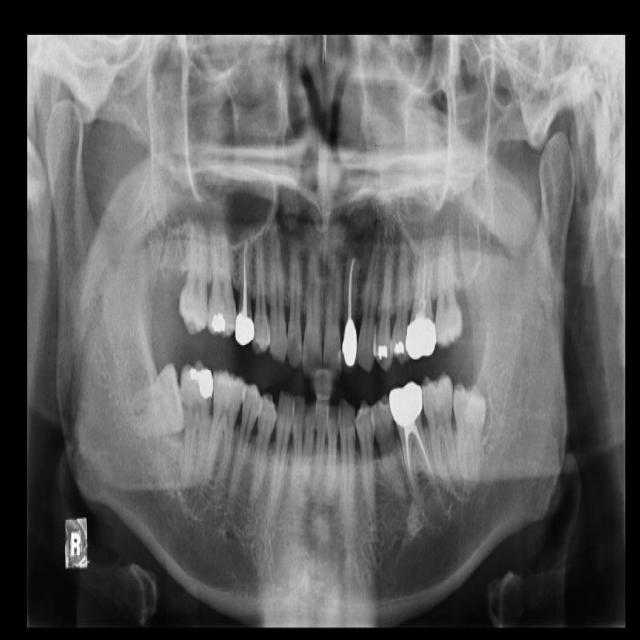52: (383, 379, 432, 427), (179, 358, 215, 409), (204, 291, 241, 339), (404, 321, 438, 361), (373, 323, 393, 373), (390, 323, 410, 365), (341, 330, 358, 375), (235, 312, 255, 346)
73: (395, 411, 437, 494), (409, 234, 443, 324), (233, 239, 253, 319), (343, 257, 357, 332), (570, 544, 572, 560)
BioHorizons Implant: (434, 219, 463, 349)
Biomet 3i Implant: (451, 379, 491, 478)
Blue Sky Bio Implant: (418, 371, 462, 492)
Caries: (179, 199, 208, 335)
Implant: (179, 359, 216, 485)
Keystone Dental Implant: (122, 361, 192, 441)
